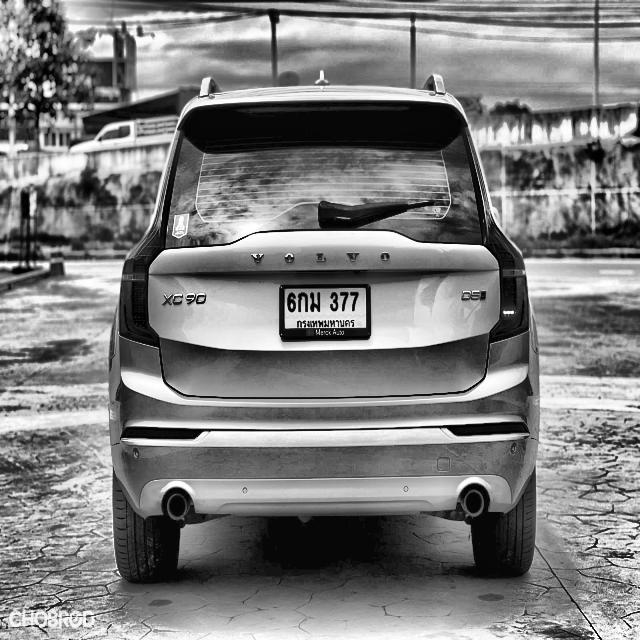license-plate: (279, 284, 372, 340)
